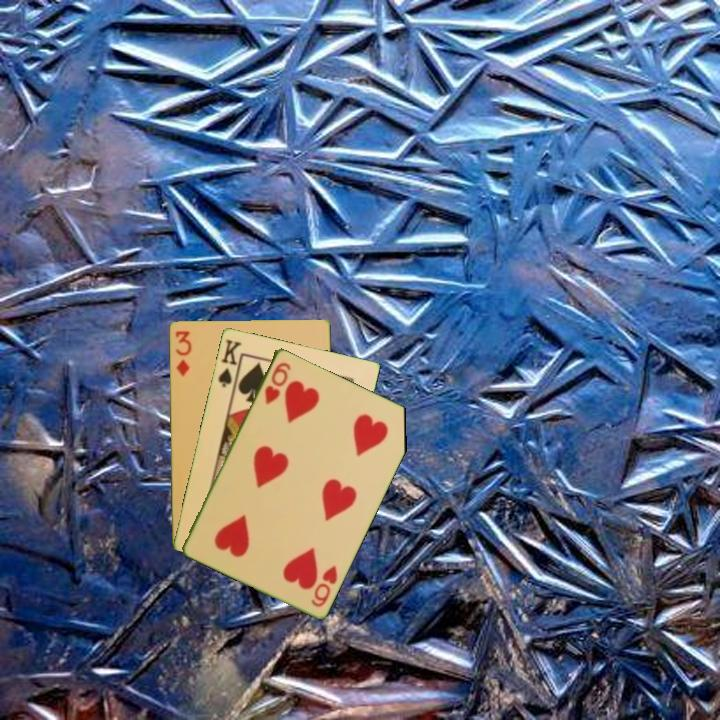3d: (172, 327, 194, 379)
6h: (261, 358, 294, 407), (307, 561, 340, 610)
Ks: (214, 335, 244, 392)
